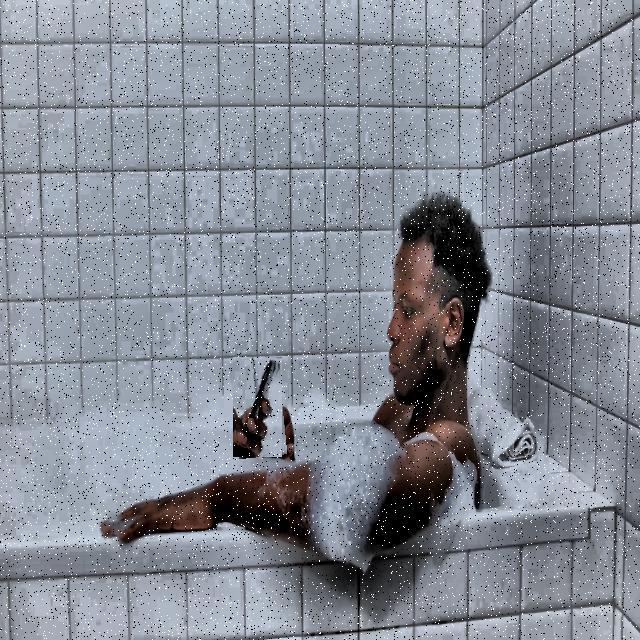Phone: (230, 356, 284, 458)
